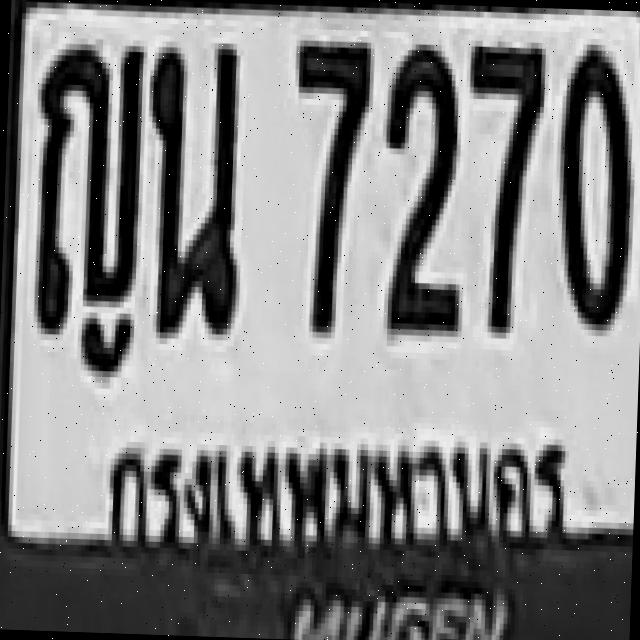0: (551, 40, 631, 328)
2: (377, 40, 465, 334)
22YorYing: (30, 37, 144, 325)
34NorNu: (142, 38, 242, 332)
7: (286, 34, 371, 333), (459, 40, 544, 327), (461, 37, 542, 237)
Bangkok: (90, 401, 576, 560)
